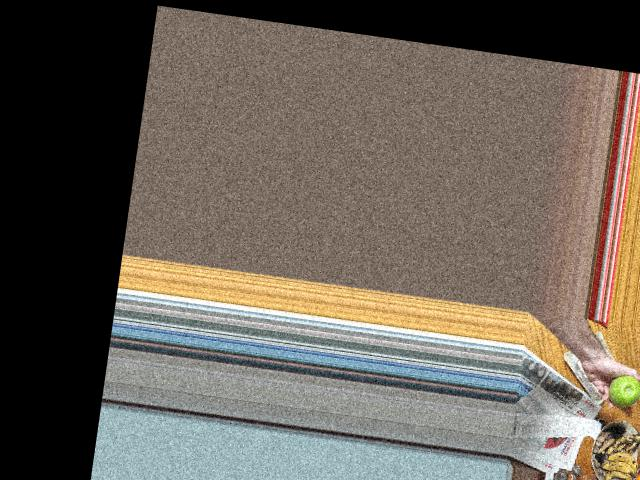apple: (606, 371, 640, 406)
